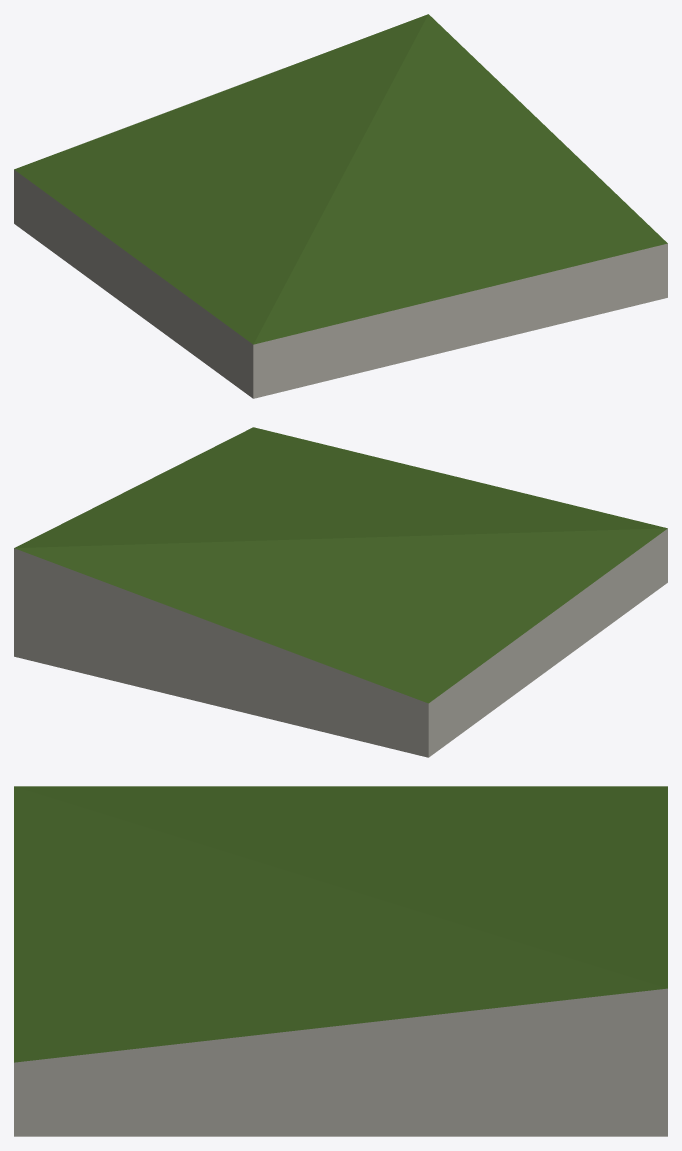
File: Terrain_Tile_Grass_Rock_Corner_Ramp_01.fbx
3 renders of one model, top to bottom at view 1: azimuth 30°, elevation 25°; view 2: azimuth 150°, elevation 25°; view 3: azimuth 270°, elevation 25°, orthographic. The views are drawn at different scales.
Parts seen in each view (by area): view 1: Model; view 2: Model; view 3: Model.
Part boxes in pixels (<box>): Model: <box>14,14,667,398</box>; Model: <box>14,427,667,757</box>; Model: <box>14,786,667,1136</box>.
Bounding box in the file's own units: 2000 × 500 × 2000.
